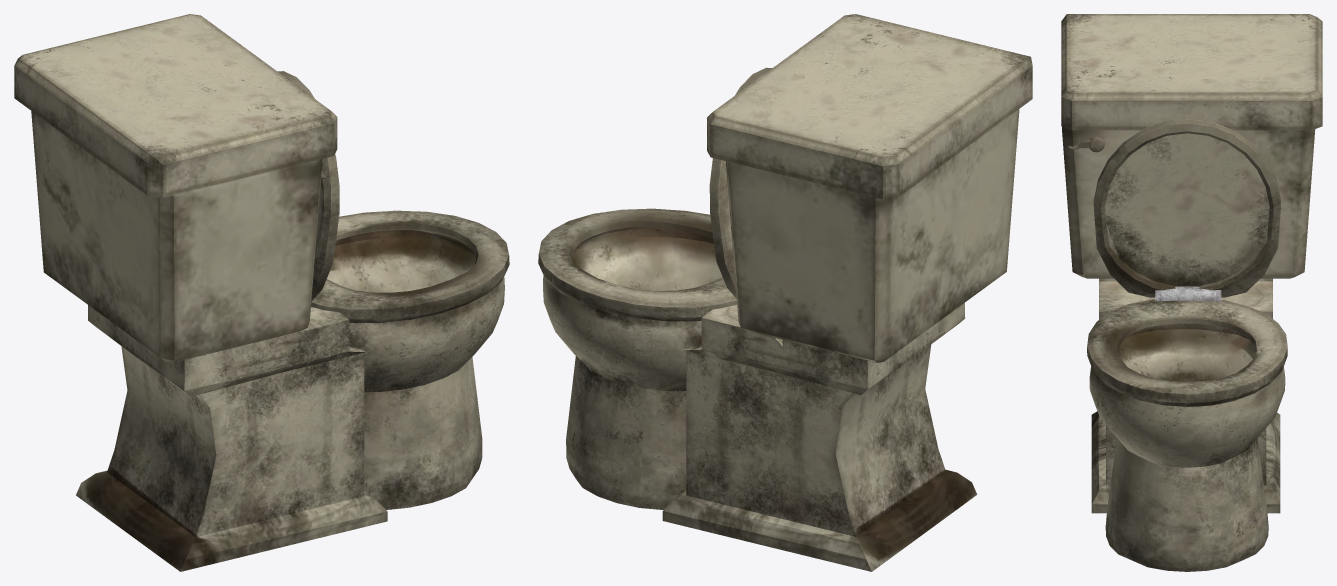
Rendered from toilet.glb.
The picture shows the model from 3 angles, left to right: view 1: azimuth 30°, elevation 25°; view 2: azimuth 150°, elevation 25°; view 3: azimuth 270°, elevation 25°; orthographic projection. The views are drawn at different scales.
Visible parts, largest first — view 1: pCube21_lambert2_0; view 2: pCube21_lambert2_0; view 3: pCube21_lambert2_0, pCylinder4_lambert1_0.
Boxes of the visible parts, x1,y1,x2,y2 form: pCube21_lambert2_0: (14, 14, 509, 571); pCube21_lambert2_0: (538, 14, 1032, 571); pCube21_lambert2_0: (1061, 14, 1322, 571); pCylinder4_lambert1_0: (1155, 286, 1221, 301).
Bounding box in the file's own units: 1.54 × 1.55 × 0.9367.
Materials: 2 (2 with a texture image).
